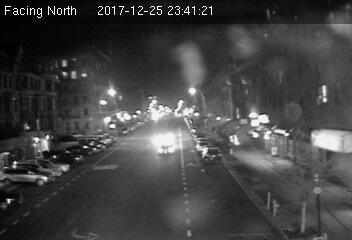car: (199, 145, 222, 161), (157, 143, 176, 157)
